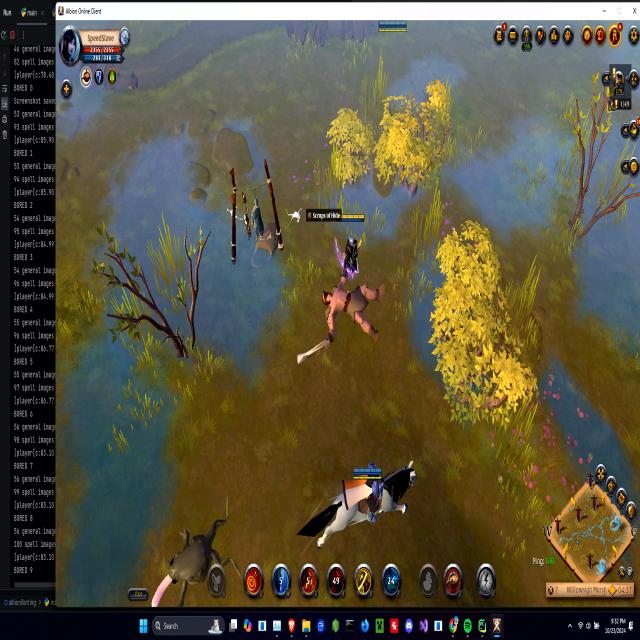red: (296, 456, 420, 554), (334, 207, 368, 284), (377, 20, 408, 36)
